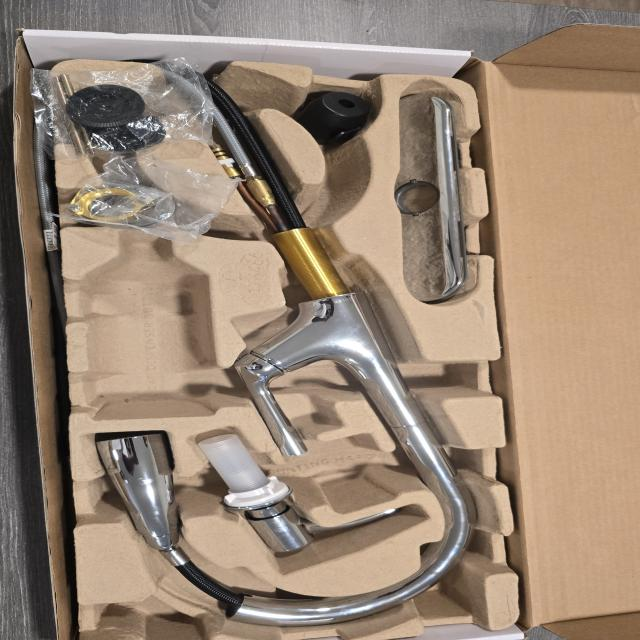1o: (95, 67, 481, 628)
2: (195, 432, 399, 552)
3m: (82, 228, 212, 421)
4: (393, 95, 466, 302)
5: (291, 90, 374, 147)
6: (57, 146, 248, 243)
7: (28, 57, 211, 160)
